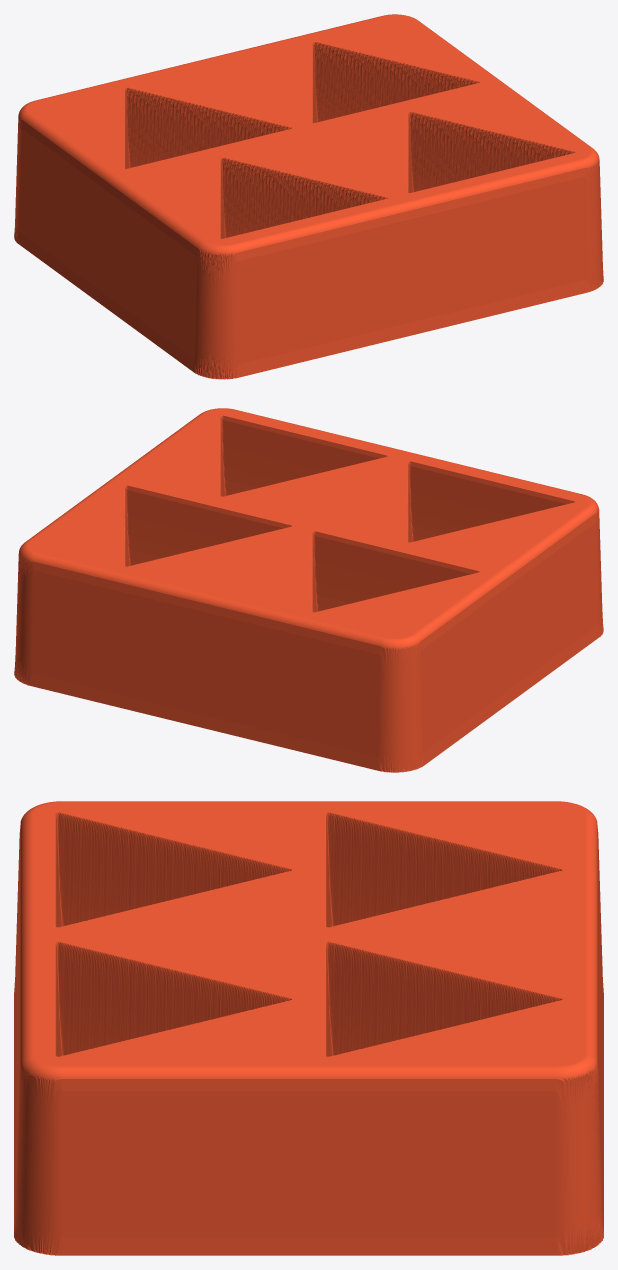
Rendered from mold.glb.
The picture shows the model from 3 angles, top to bottom: view 1: azimuth 30°, elevation 25°; view 2: azimuth 150°, elevation 25°; view 3: azimuth 270°, elevation 25°; orthographic projection. The views are drawn at different scales.
Parts seen in each view (by area): view 1: geometry_0; view 2: geometry_0; view 3: geometry_0.
Part boxes in pixels (x1,y1,x2,y2): geometry_0: (14, 14, 603, 379); geometry_0: (14, 408, 603, 772); geometry_0: (14, 801, 603, 1255).
Size of the model in its own units: 0.1248 by 0.0378 by 0.1112.
